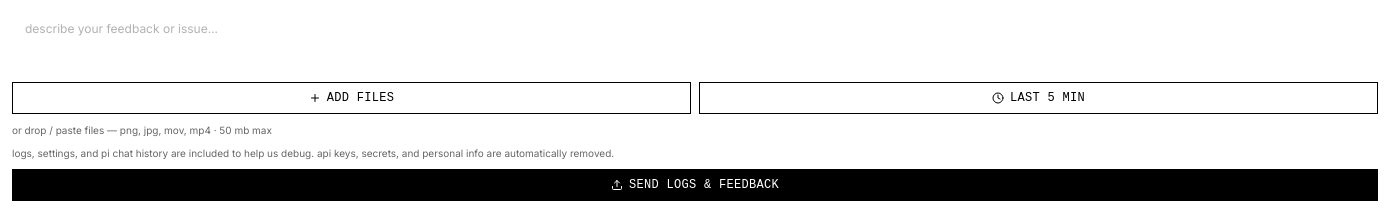
Scenario: ShareLogsButton attachments › dismisses only after Rust accepts ownership of the background job
The width and height of the screenshot is (1390, 218).
Later steps or results of the test are not shown.
Click the button "send logs & feedback".
click(695, 185)  # box [12,169,1378,201]
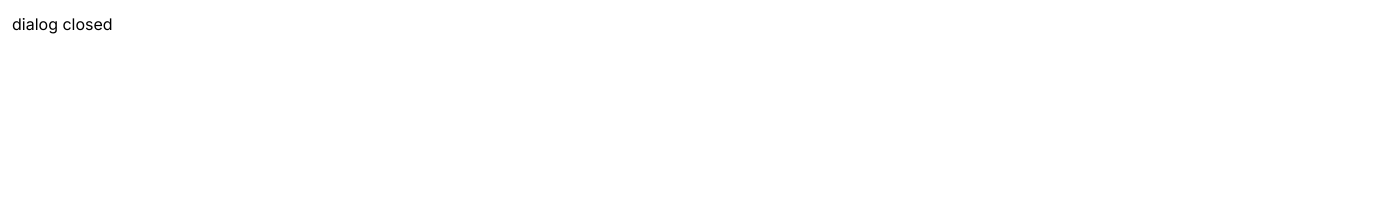
Check: the text "dialog closed" is shown, box [12,14,113,34]
